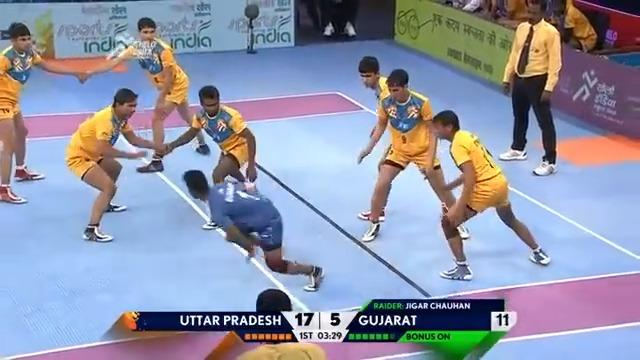Player: (427, 109, 551, 280), (78, 16, 210, 173), (356, 67, 470, 242), (65, 87, 169, 242), (0, 21, 87, 203), (156, 84, 258, 230)
Raider: (182, 168, 324, 291)
referee: (498, 0, 563, 176), (542, 0, 598, 53), (318, 0, 359, 39)
